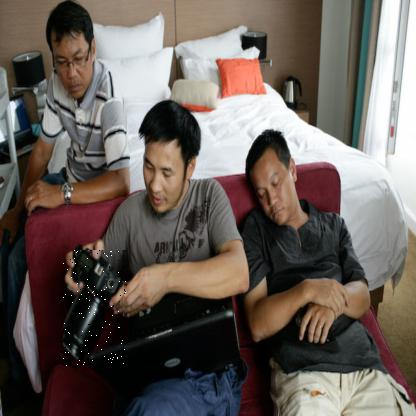Camera: (65, 251, 129, 368)
